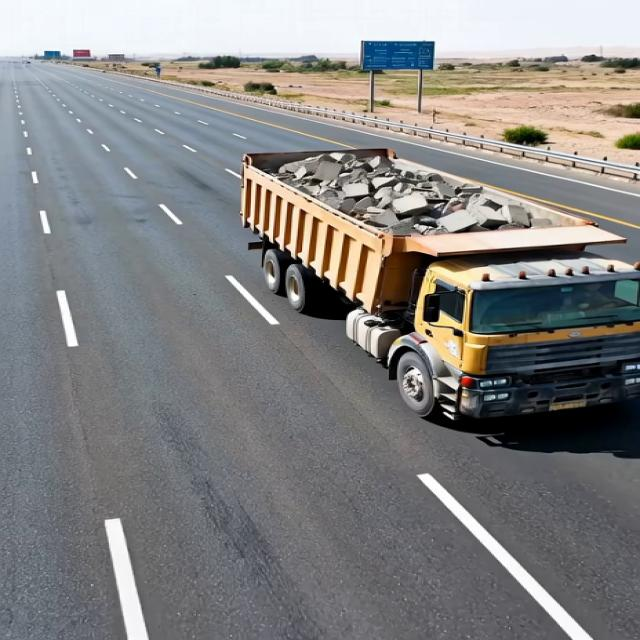Box: (223, 150, 627, 250)
Truck: (213, 138, 638, 432)
